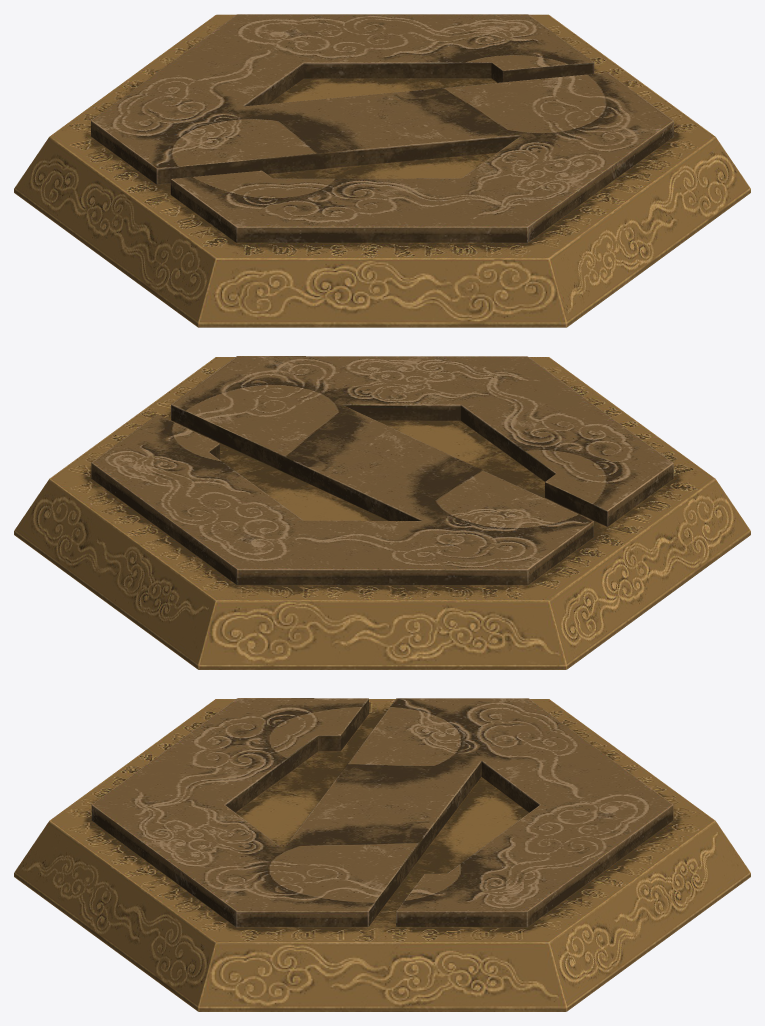
Rendered from dizuo.glb.
The picture shows the model from 3 angles, top to bottom: view 1: azimuth 30°, elevation 25°; view 2: azimuth 150°, elevation 25°; view 3: azimuth 270°, elevation 25°; orthographic projection.
Parts seen in each view (by area): view 1: base; view 2: base; view 3: base.
Boxes of the visible parts, x1,y1,x2,y2 form: base: (14,14,750,327); base: (14,356,750,669); base: (14,698,750,1011).
Bounding box in the file's own units: 8.25 × 1.03 × 9.52.
Materials: 1 (1 with a texture image).
